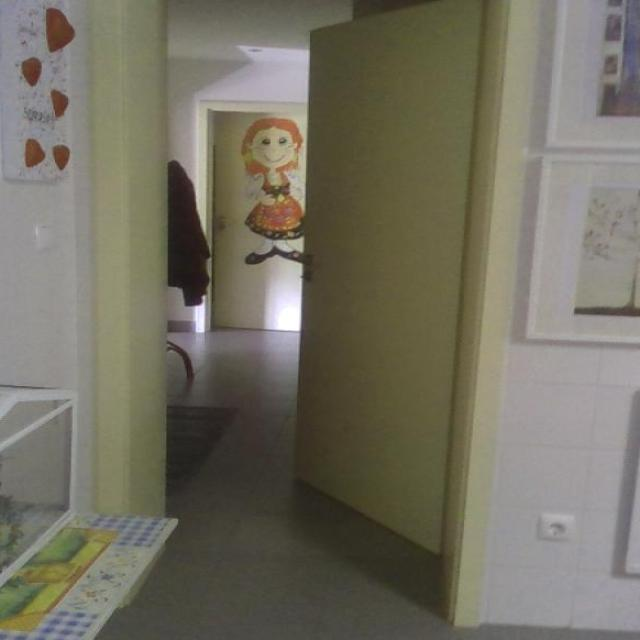door: (285, 0, 488, 550)
